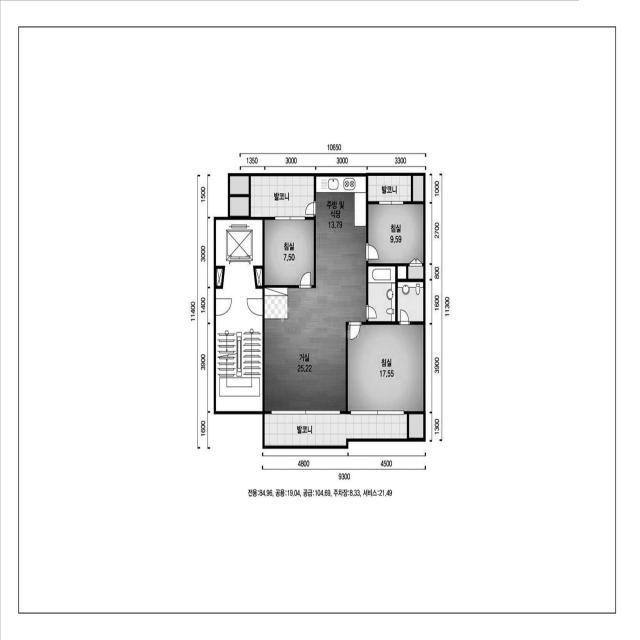space_balconi: (264, 414, 407, 446), (251, 176, 314, 217), (368, 175, 411, 201)
space_bedroom: (347, 325, 423, 412), (368, 204, 423, 279), (264, 220, 314, 286)
space_elevator: (216, 219, 263, 266)
space_front: (264, 287, 288, 319)
space_kitchen: (316, 176, 366, 288)
space_living_room: (264, 287, 366, 411)
space_other: (230, 197, 249, 216), (230, 176, 249, 194), (409, 414, 423, 438), (413, 176, 423, 201), (216, 268, 223, 286), (255, 268, 262, 286), (398, 266, 406, 279)
space_staircase: (216, 266, 263, 411)
space_toilet: (368, 266, 395, 322), (397, 282, 423, 322)
